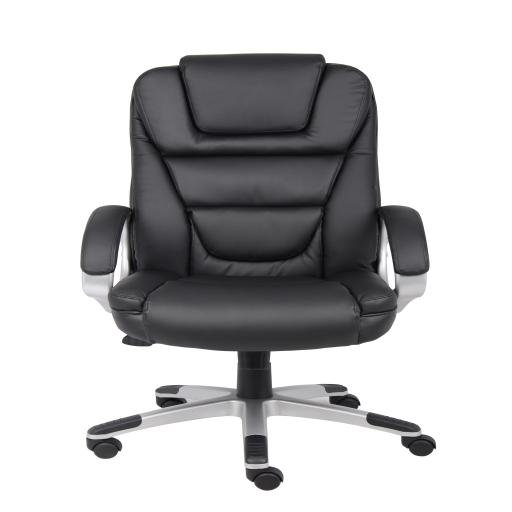chair: (79, 54, 436, 490)
